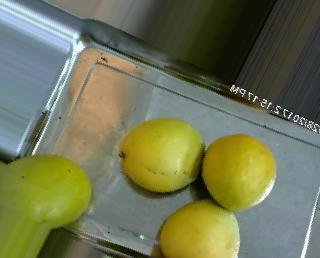Mango: (0, 156, 90, 227), (121, 117, 205, 191), (200, 133, 275, 209), (159, 198, 239, 257)
